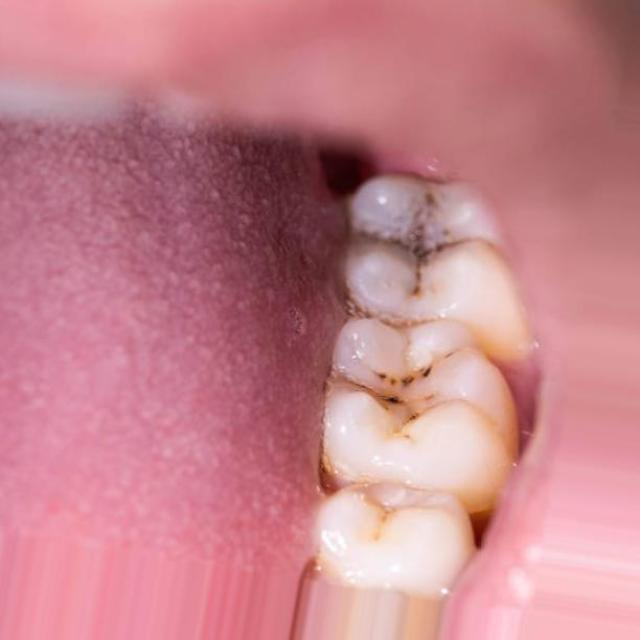caries: (329, 326, 478, 454), (359, 188, 488, 306)
